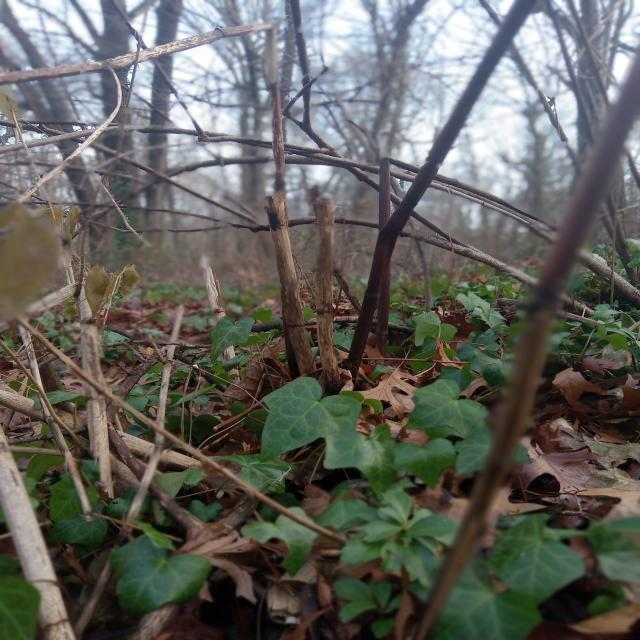knotweed-stems: (411, 45, 638, 638), (340, 0, 543, 386)
tree trunks: (17, 17, 185, 300)
